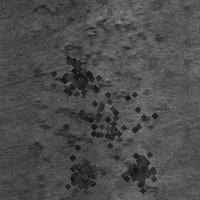rolled-in_scale: (46, 60, 164, 178), (29, 21, 112, 179), (116, 98, 163, 199), (45, 49, 99, 103), (118, 148, 160, 190), (61, 152, 103, 194)
